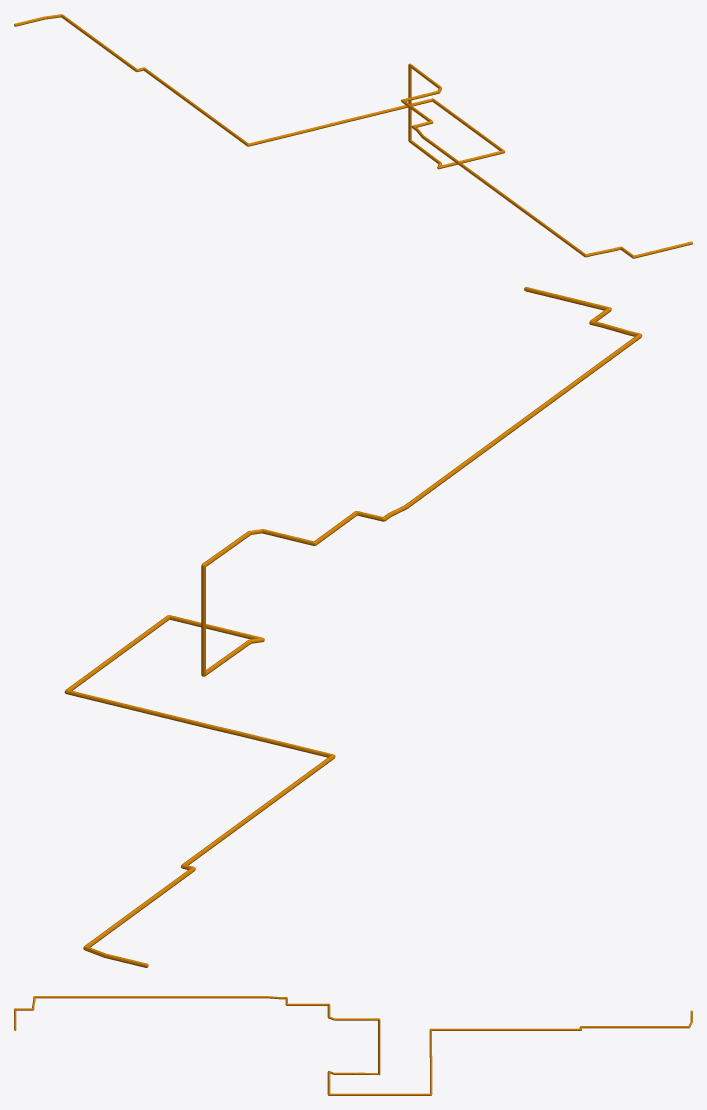
3 renders of one model, top to bottom at view 1: azimuth 30°, elevation 25°; view 2: azimuth 150°, elevation 25°; view 3: azimuth 270°, elevation 25°, orthographic. The views are drawn at different scales.
Bounding box in the file's own units: 1656 × 520 × 5654.
